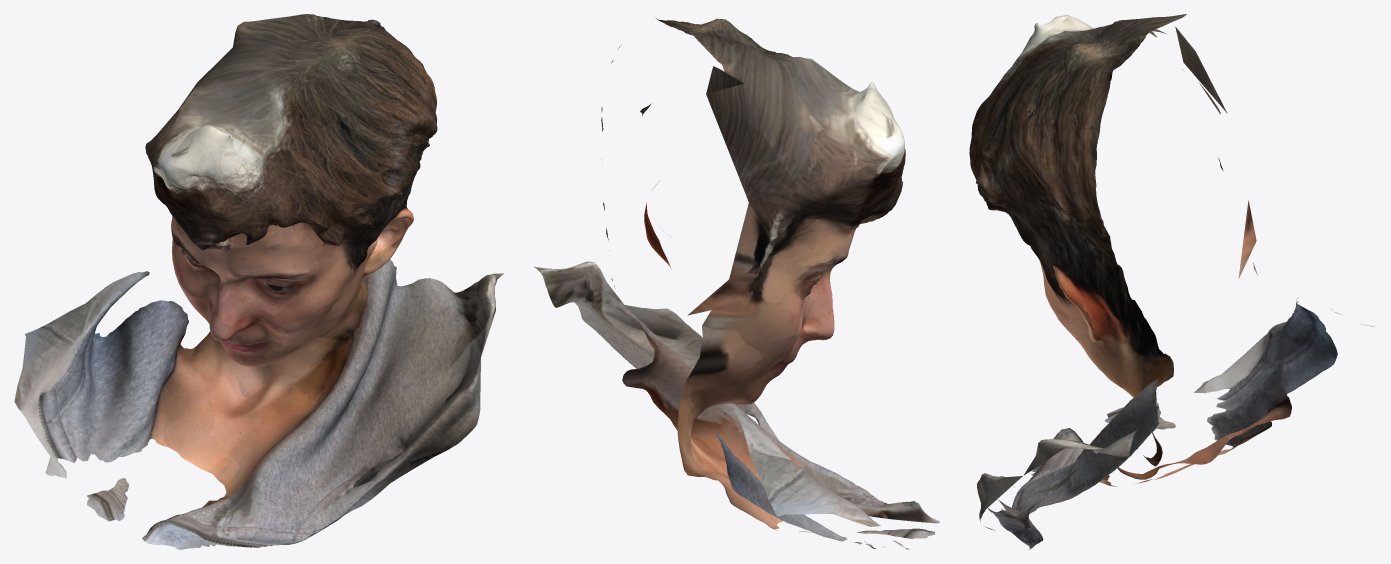
File: sabrina.gltf
3 views of the same model, side by side, from view 1: azimuth 30°, elevation 25°; view 2: azimuth 150°, elevation 25°; view 3: azimuth 270°, elevation 25° (orthographic). The views are drawn at different scales.
Visible parts, largest first — view 1: sabrina; view 2: sabrina; view 3: sabrina.
Boxes of the visible parts, left/top/right/bottom form: sabrina: left=14, top=14, right=504, bottom=549; sabrina: left=534, top=17, right=940, bottom=549; sabrina: left=969, top=14, right=1374, bottom=549.
Size of the model in its own units: 0.9868 by 1.07 by 0.7442.
1 material, 1 textured.
